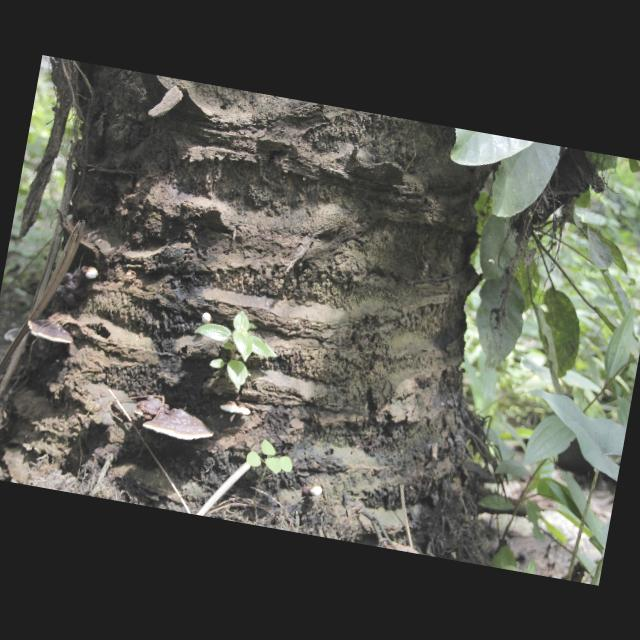ganoderma: (130, 393, 219, 447), (54, 262, 86, 311), (25, 317, 78, 346), (220, 400, 254, 417), (2, 325, 22, 345)
primordium: (308, 484, 326, 500), (85, 266, 101, 281), (201, 312, 214, 327)
